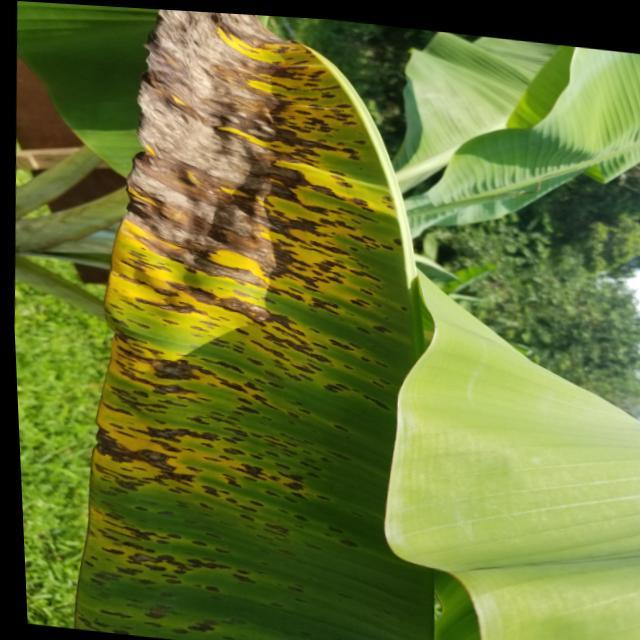Early_rust: (76, 0, 452, 640)
